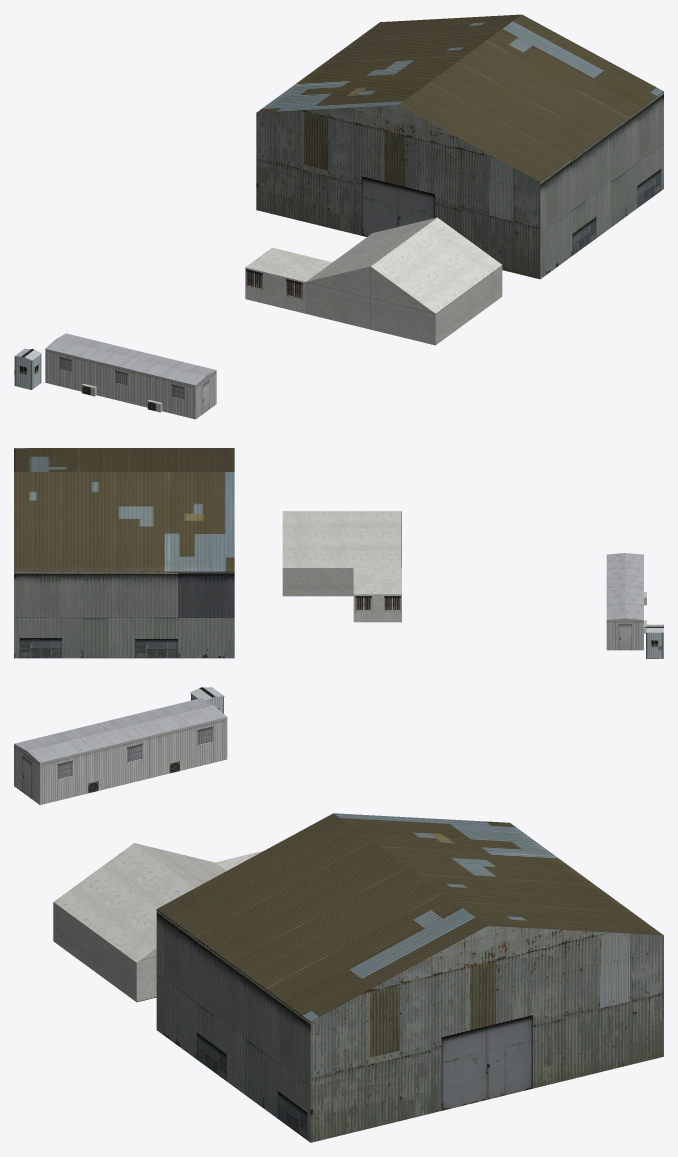
The model's file is llmg_bld5.gltf.
3 renders of one model, top to bottom at view 1: azimuth 30°, elevation 25°; view 2: azimuth 150°, elevation 25°; view 3: azimuth 270°, elevation 25°, orthographic. The views are drawn at different scales.
Visible parts, largest first — view 1: node1; view 2: node1; view 3: node1.
Boxes of the visible parts, x1=… form: node1: x1=14, y1=14, x2=663, y2=419; node1: x1=14, y1=448, x2=663, y2=658; node1: x1=14, y1=687, x2=663, y2=1142.
Bounding box in the file's own units: 57.16 × 11.07 × 37.5.
